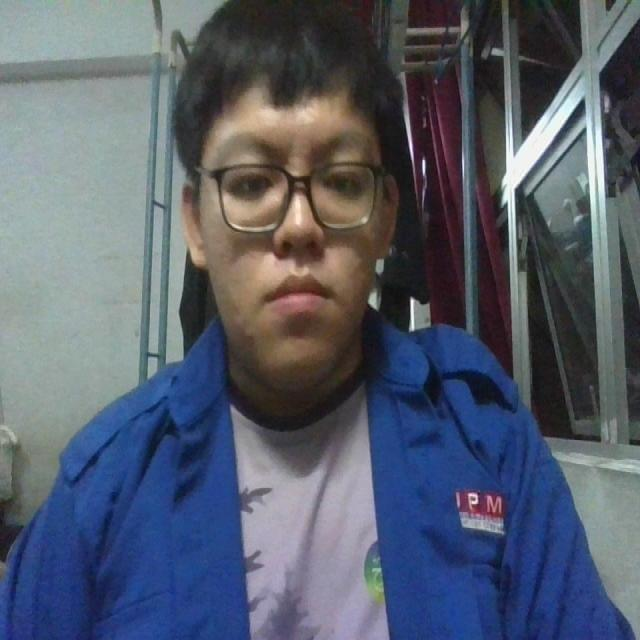person_with_labcoat: (0, 0, 632, 639), (363, 311, 633, 639)
